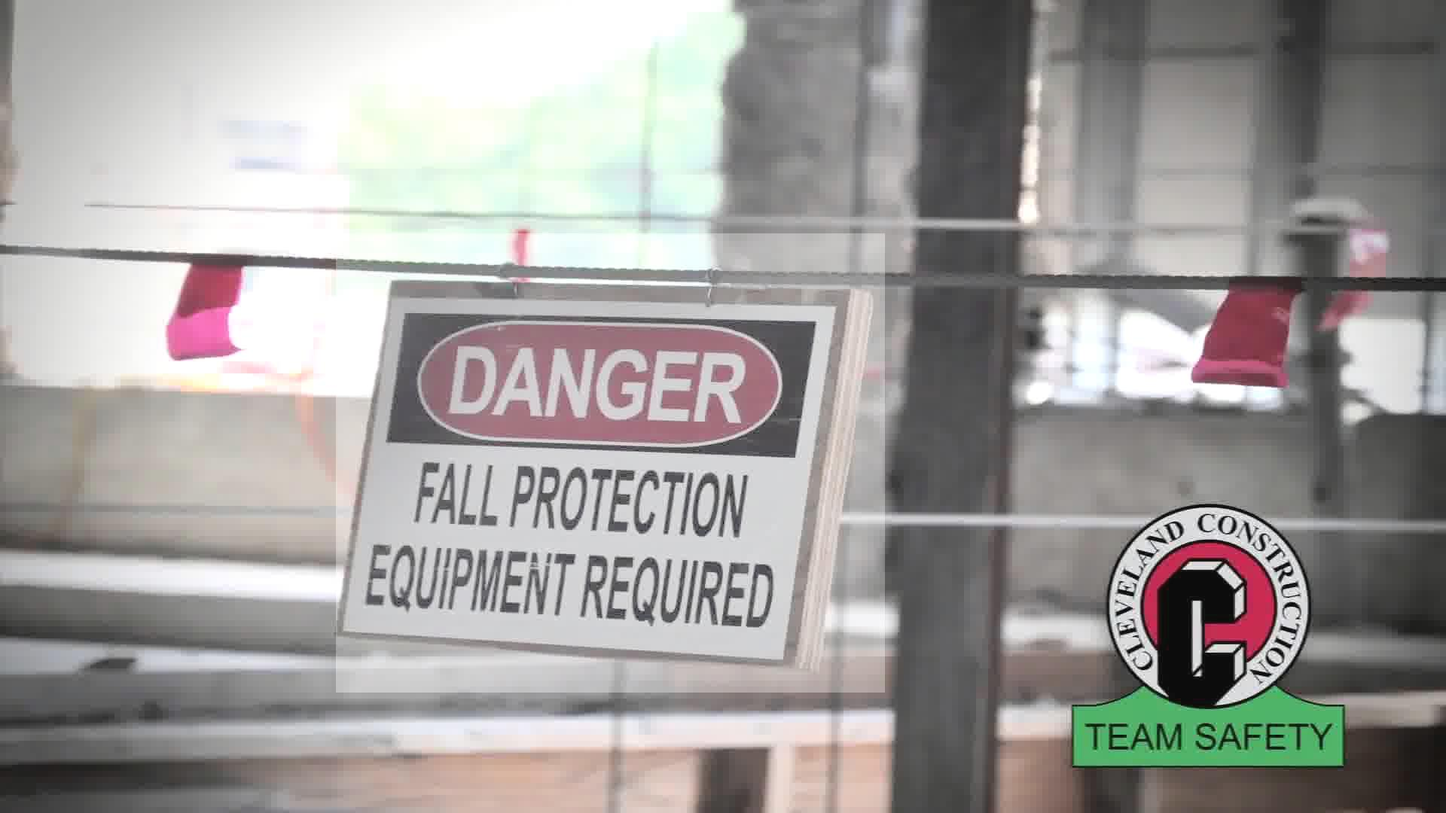safety_signage: (336, 233, 885, 693)
